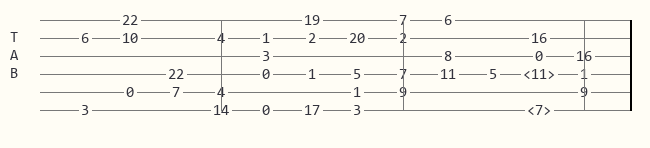0: (126, 85, 138, 99), (262, 103, 274, 117), (262, 67, 274, 81), (535, 49, 547, 63)
1: (262, 31, 274, 45), (308, 67, 320, 81), (353, 85, 365, 99), (580, 67, 592, 81)
10: (122, 31, 142, 45)
11: (440, 67, 460, 81)
14: (213, 103, 233, 117)
16: (531, 31, 551, 45), (576, 49, 596, 63)
17: (304, 103, 324, 117)
19: (304, 13, 324, 27)
2: (308, 31, 320, 45), (399, 31, 411, 45)
20: (349, 31, 369, 45)
22: (122, 13, 142, 27), (168, 67, 188, 81)
3: (81, 103, 93, 117), (262, 49, 274, 63), (353, 103, 365, 117)
4: (217, 31, 229, 45), (217, 85, 229, 99)
5: (353, 67, 365, 81), (489, 67, 501, 81)
6: (81, 31, 93, 45), (444, 13, 456, 27)
7: (172, 85, 184, 99), (399, 13, 411, 27), (399, 67, 411, 81)
8: (444, 49, 456, 63)
9: (399, 85, 411, 99), (580, 85, 592, 99)
harmonic: (523, 67, 559, 81), (527, 103, 555, 117)
